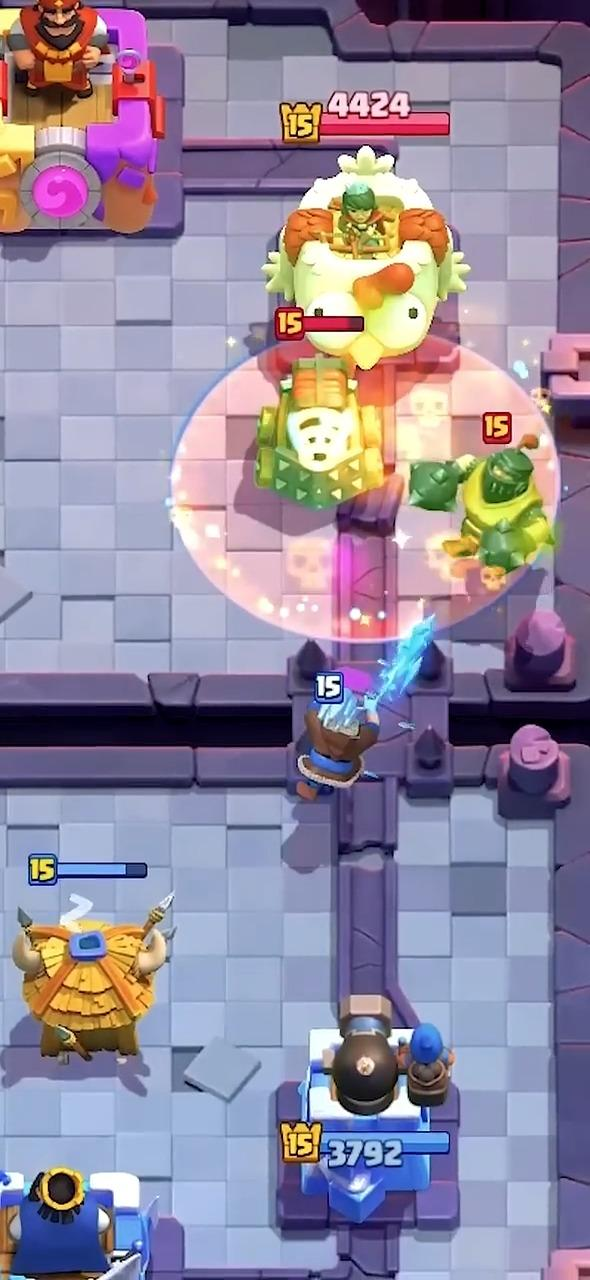goblin hut: (12, 895, 173, 1061)
ice wizard: (296, 685, 378, 800)
mega knight: (409, 435, 552, 589)
poison: (168, 392, 466, 644), (375, 337, 543, 457)
sparky: (256, 355, 383, 510)
